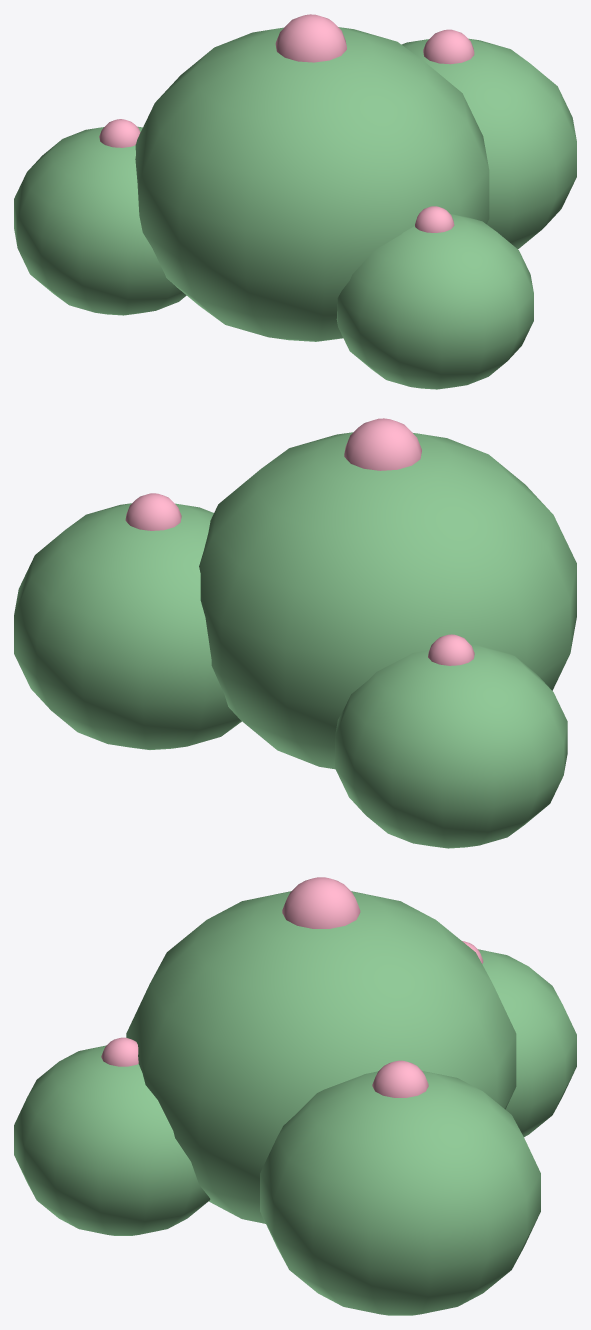
File: desert__cactus_round.fbx
3 renders of one model, top to bottom at view 1: azimuth 30°, elevation 25°; view 2: azimuth 150°, elevation 25°; view 3: azimuth 270°, elevation 25°, orthographic. The views are drawn at different scales.
Parts seen in each view (by area): view 1: desert__cactus_round; view 2: desert__cactus_round; view 3: desert__cactus_round.
Part boxes in pixels (<box>): desert__cactus_round: <box>14,14,576,389</box>; desert__cactus_round: <box>14,418,576,848</box>; desert__cactus_round: <box>14,877,576,1315</box>.
Bounding box in the file's own units: 1.58 × 0.925 × 1.42.
